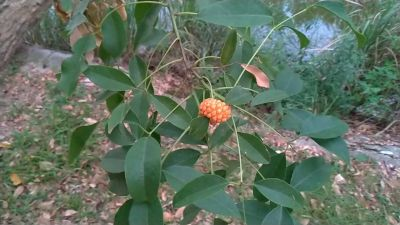eggs: (194, 95, 232, 126)
